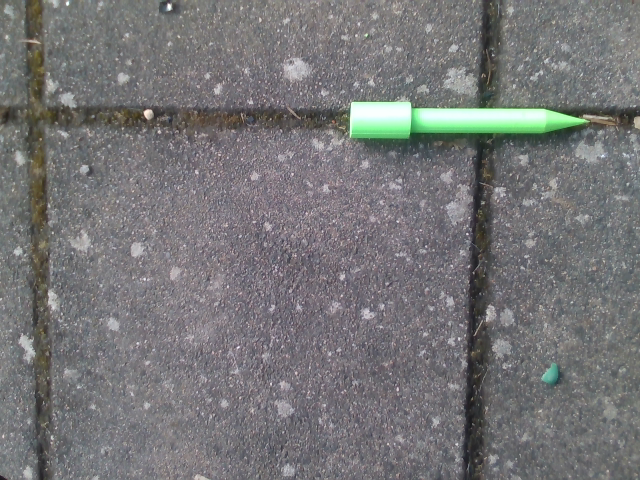Probe: (345, 97, 594, 143)
